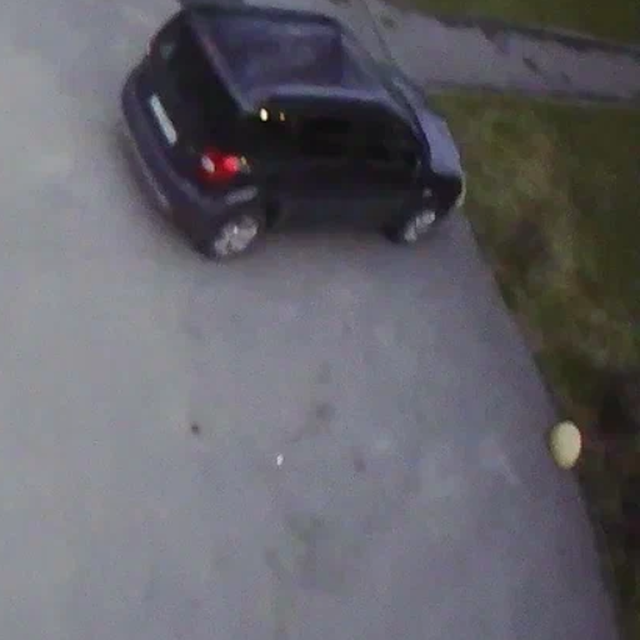car: (120, 4, 465, 260)
